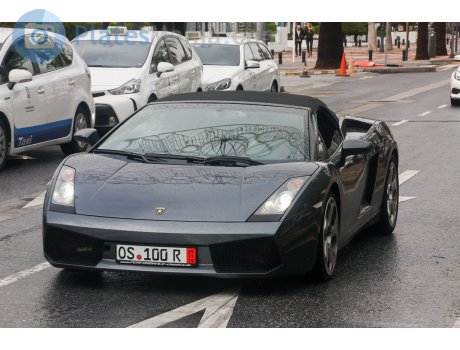License Plates: (116, 244, 185, 261)
